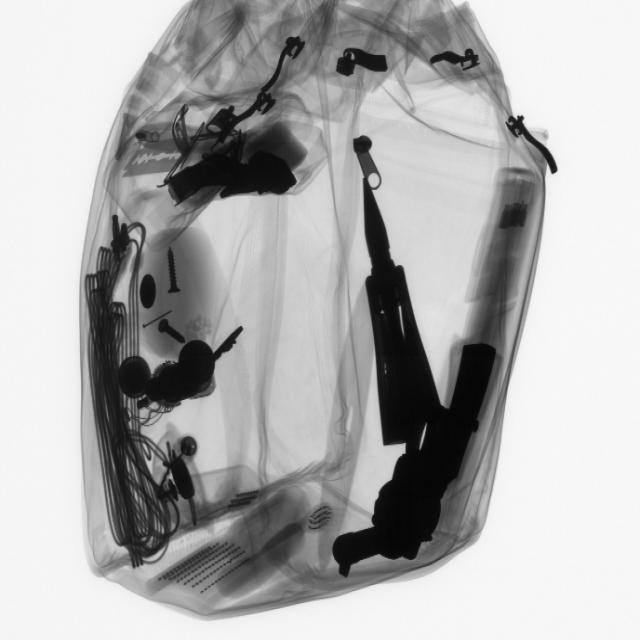BLADE: (123, 133, 194, 183)
GUN: (350, 311, 499, 580)
SCREW: (149, 307, 199, 358), (160, 239, 190, 301)
